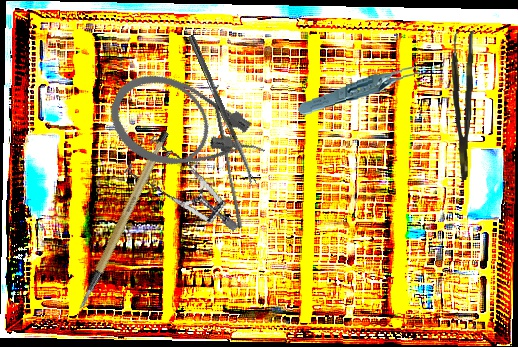Cannula: (97, 59, 277, 203)
Pusher: (209, 102, 247, 229)
Scalpel Handle: (50, 128, 192, 312)
Speculum: (116, 119, 239, 259)
Surgical Spoon: (187, 34, 257, 187)
Tissue Forceps: (295, 65, 431, 117), (447, 30, 475, 181)
